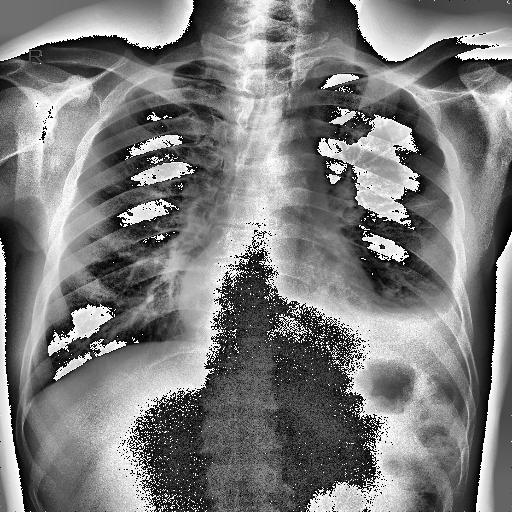10- Pleural effusion: (286, 277, 464, 343), (370, 272, 463, 356), (381, 294, 461, 368)
13- Pulmonary fibrosis: (409, 190, 450, 212), (406, 197, 455, 209), (415, 197, 445, 207)
